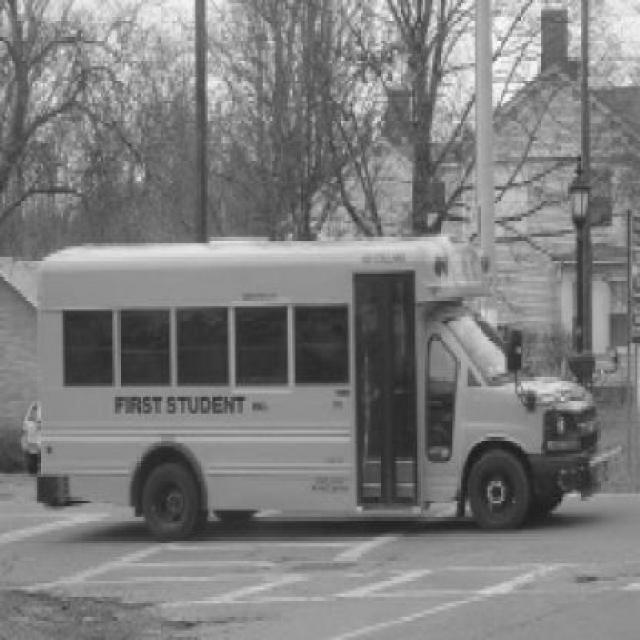Bus- Small: (35, 235, 616, 543)
